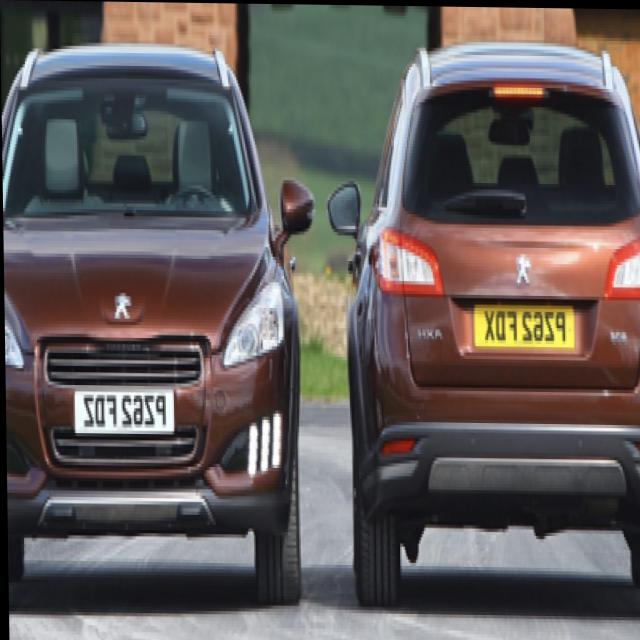licence: (474, 303, 575, 346), (74, 388, 173, 431)
